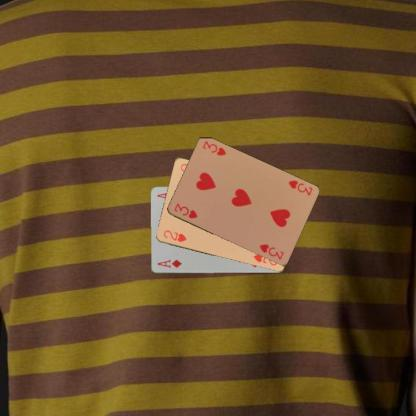2h: (160, 228, 188, 243)
3h: (286, 177, 313, 197), (171, 201, 199, 220)
Ad: (154, 256, 183, 270)
